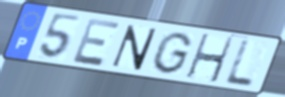5: (37, 12, 84, 62)
E: (70, 17, 124, 69)
G: (149, 31, 195, 76)
H: (184, 32, 236, 85)
L: (222, 39, 255, 89)
N: (109, 23, 160, 72)
